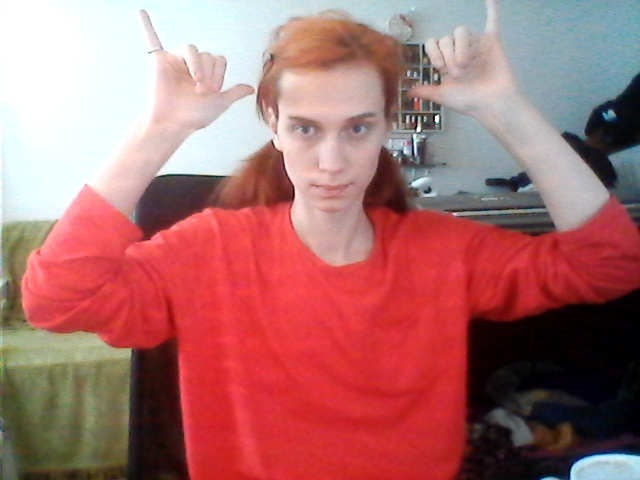krava: (125, 1, 519, 130)
